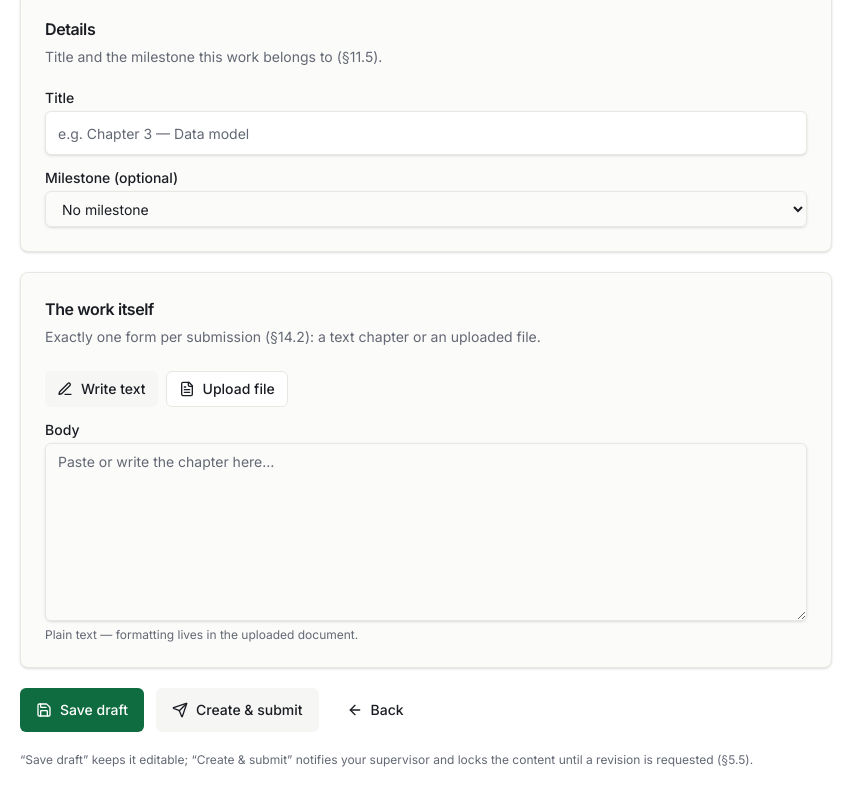
SubmissionComposer (§11.5, task 11.4 — text OR file with progress) › refuses to save without a title
(page scrolled)
Click the button "Save draft" at (82, 710), box [20,688,144,732]
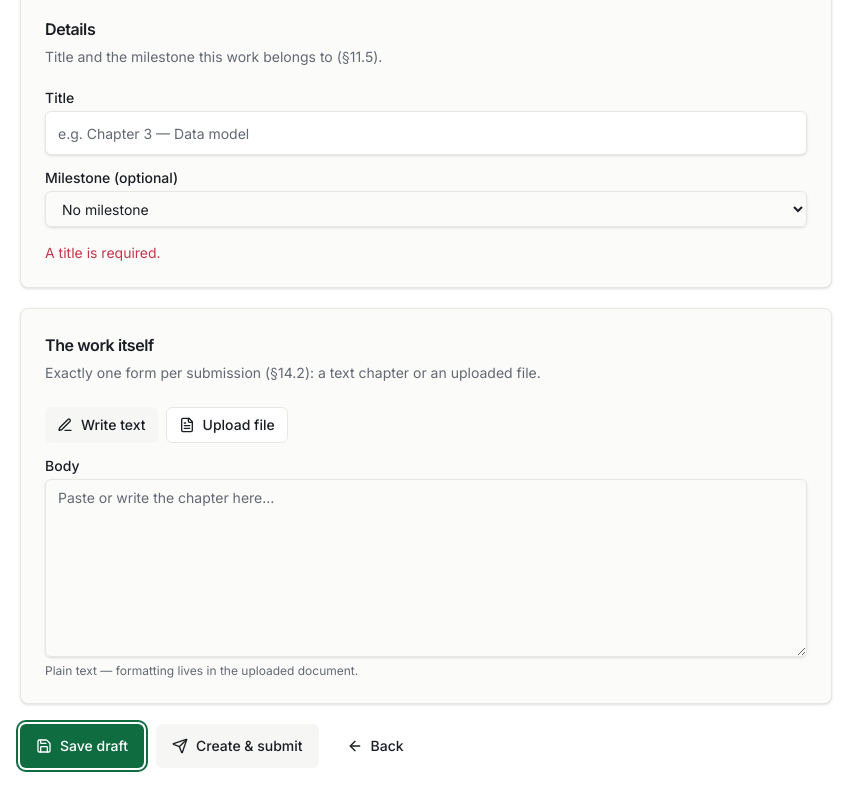
Expected: the message reads "A title is required.", [45,244,161,261]
